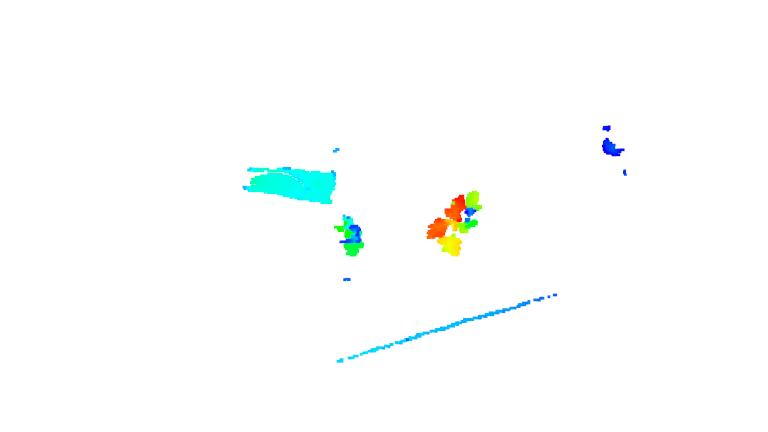chickpea: (427, 186, 488, 261), (330, 216, 368, 260)
